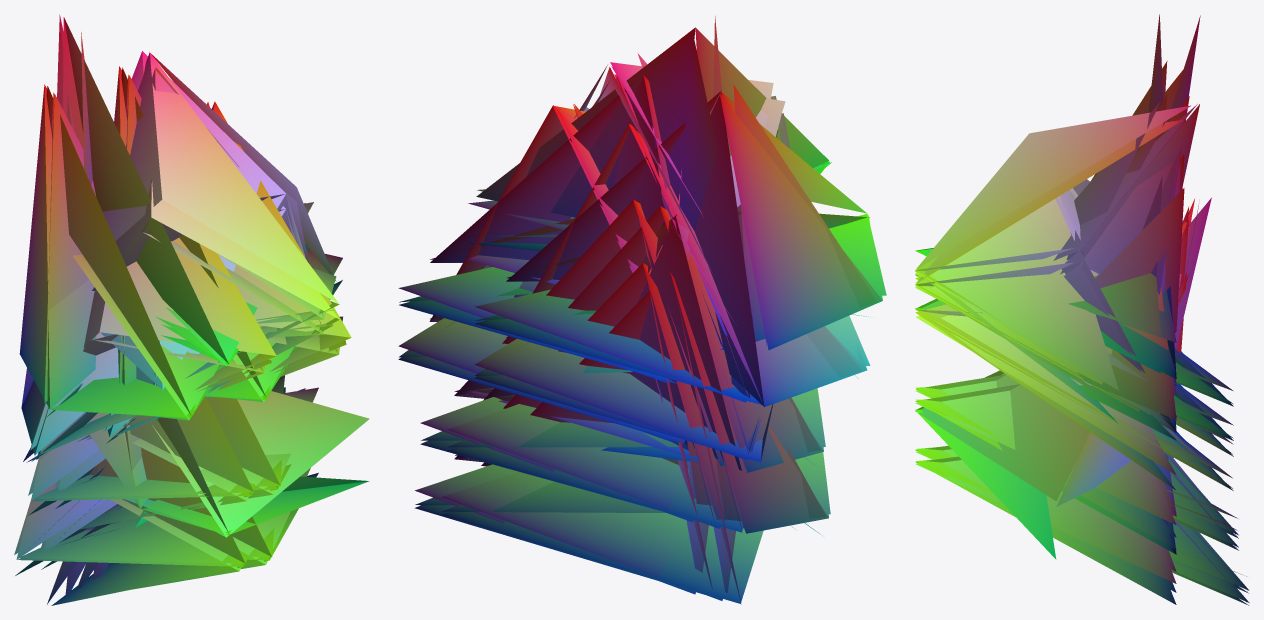
Rendered from npc_instructor_base.glb.
3 views of the same model, side by side, from view 1: azimuth 30°, elevation 25°; view 2: azimuth 150°, elevation 25°; view 3: azimuth 270°, elevation 25° (orthographic). The views are drawn at different scales.
Visible parts, largest first — view 1: upper_arm_l, head, lower_leg_l, torso, lower_arm_l, hair, upper_leg_l, neck, upper_arm_r, lower_arm_r, upper_leg_r, lower_leg_r; view 2: upper_arm_l, lower_leg_l, upper_leg_l, lower_arm_l, hair, upper_arm_r, torso, lower_leg_r, lower_arm_r, upper_leg_r, head, neck; view 3: head, torso, lower_arm_r, neck, lower_leg_r, upper_leg_r, upper_arm_r, hair, upper_leg_l, lower_leg_l, upper_arm_l, lower_arm_l.
Boxes of the visible parts, x1=… form: upper_arm_l: x1=19, y1=84, x2=219, y2=420; head: x1=92, y1=51, x2=339, y2=389; lower_leg_l: x1=14, y1=443, x2=246, y2=605; torso: x1=78, y1=388, x2=369, y2=537; lower_arm_l: x1=21, y1=238, x2=276, y2=462; hair: x1=57, y1=14, x2=313, y2=366; upper_leg_l: x1=28, y1=396, x2=254, y2=529; neck: x1=115, y1=177, x2=339, y2=420; upper_arm_r: x1=114, y1=66, x2=342, y2=402; lower_arm_r: x1=105, y1=101, x2=351, y2=443; upper_leg_r: x1=55, y1=365, x2=318, y2=508; lower_leg_r: x1=40, y1=468, x2=318, y2=589; upper_arm_l: x1=475, y1=85, x2=886, y2=406; lower_leg_l: x1=441, y1=272, x2=830, y2=604; upper_leg_l: x1=447, y1=205, x2=825, y2=532; lower_arm_l: x1=474, y1=124, x2=870, y2=462; hair: x1=468, y1=16, x2=831, y2=256; upper_arm_r: x1=398, y1=73, x2=676, y2=383; torso: x1=468, y1=214, x2=741, y2=470; lower_leg_r: x1=414, y1=262, x2=795, y2=594; lower_arm_r: x1=398, y1=104, x2=685, y2=443; upper_leg_r: x1=420, y1=199, x2=724, y2=522; head: x1=468, y1=53, x2=783, y2=284; neck: x1=483, y1=74, x2=790, y2=350; head: x1=915, y1=101, x2=1199, y2=431; torso: x1=915, y1=197, x2=1211, y2=559; lower_arm_r: x1=915, y1=188, x2=1233, y2=490; neck: x1=915, y1=119, x2=1185, y2=432; lower_leg_r: x1=915, y1=272, x2=1249, y2=605; upper_leg_r: x1=915, y1=218, x2=1238, y2=550; upper_arm_r: x1=915, y1=95, x2=1233, y2=440; hair: x1=915, y1=14, x2=1200, y2=379; upper_leg_l: x1=915, y1=207, x2=1238, y2=538; lower_leg_l: x1=915, y1=445, x2=1249, y2=593; upper_arm_l: x1=915, y1=61, x2=1233, y2=406; lower_arm_l: x1=915, y1=154, x2=1233, y2=456.
Bounding box in the file's own units: 1.53 × 2.26 × 1.28.
